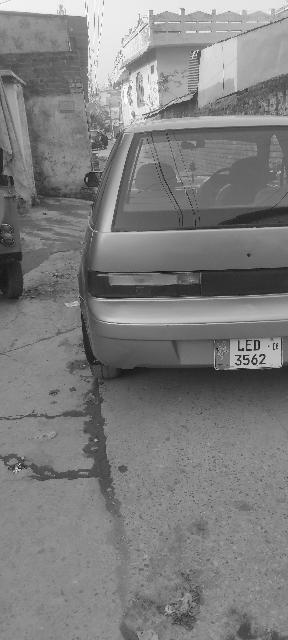Number: (234, 338, 266, 368)
